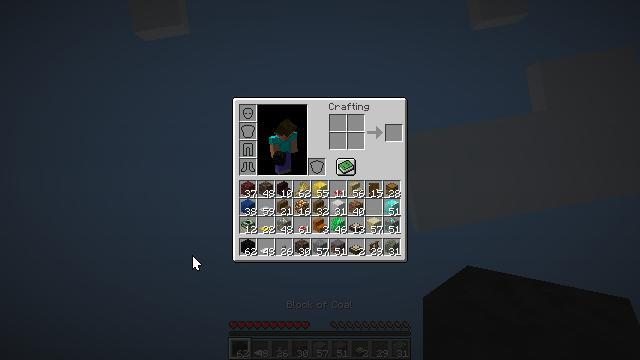cursor: (192, 255, 202, 271)
